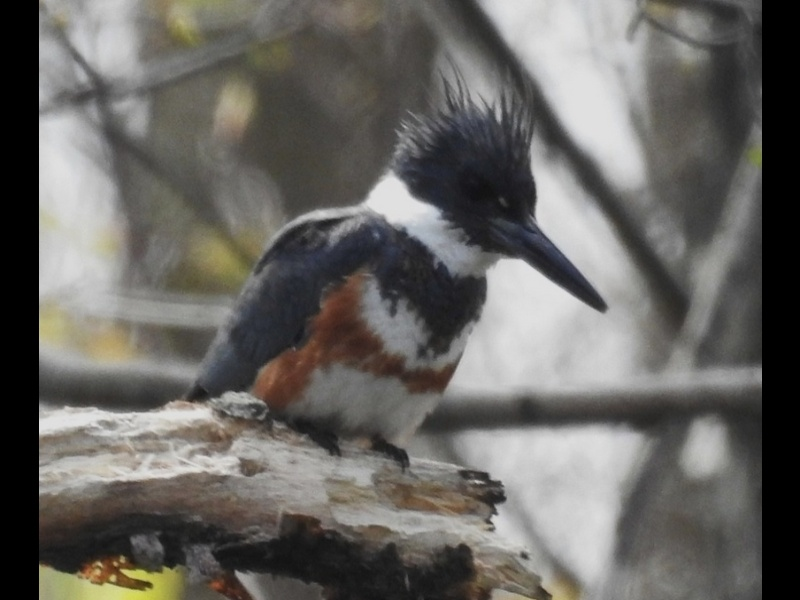kingfisher: (160, 54, 612, 461)
